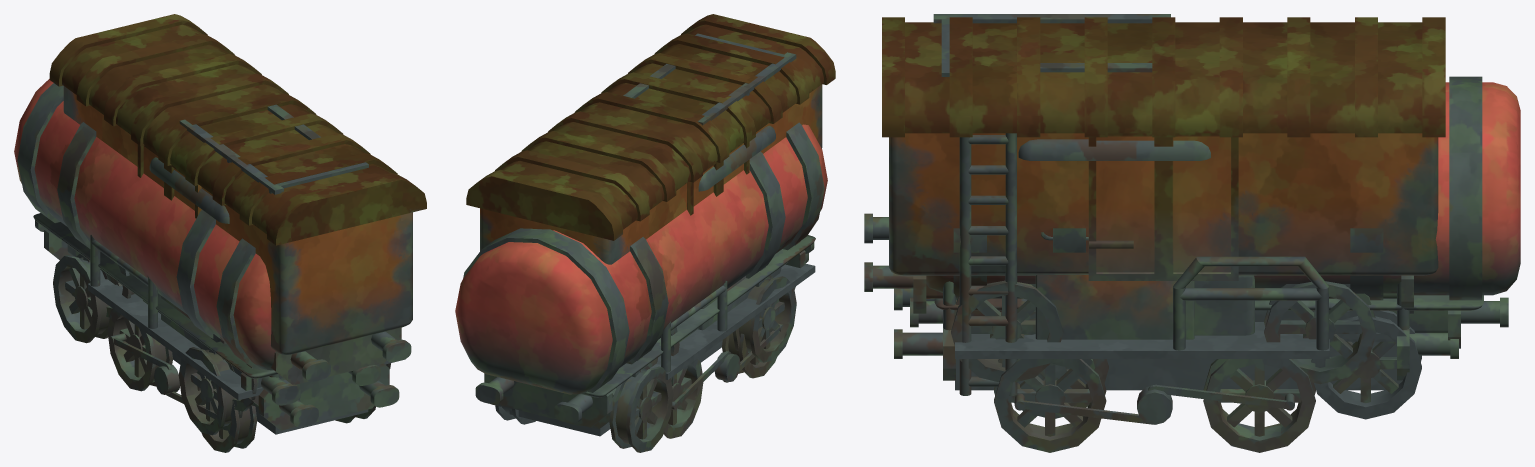
The model's file is Train wagons.fbx.
The picture shows the model from 3 angles, left to right: view 1: azimuth 30°, elevation 25°; view 2: azimuth 150°, elevation 25°; view 3: azimuth 270°, elevation 25°; orthographic projection. The views are drawn at different scales.
Visible parts, largest first — view 1: Wagon 1, Wagon 2, Train; view 2: Wagon 2, Wagon 1, Train; view 3: Wagon 1, Train, Wagon 2.
Boxes of the visible parts, box(x1,y1,x2,y2) form: Wagon 1: box(49, 14, 426, 411); Wagon 2: box(14, 79, 386, 435); Train: box(71, 157, 405, 452); Wagon 2: box(455, 33, 827, 452); Wagon 1: box(466, 14, 835, 393); Train: box(492, 125, 815, 438); Wagon 1: box(864, 17, 1445, 384); Train: box(894, 139, 1458, 452); Wagon 2: box(910, 14, 1520, 419).
Size of the model in its own units: 319 by 502 by 826.
